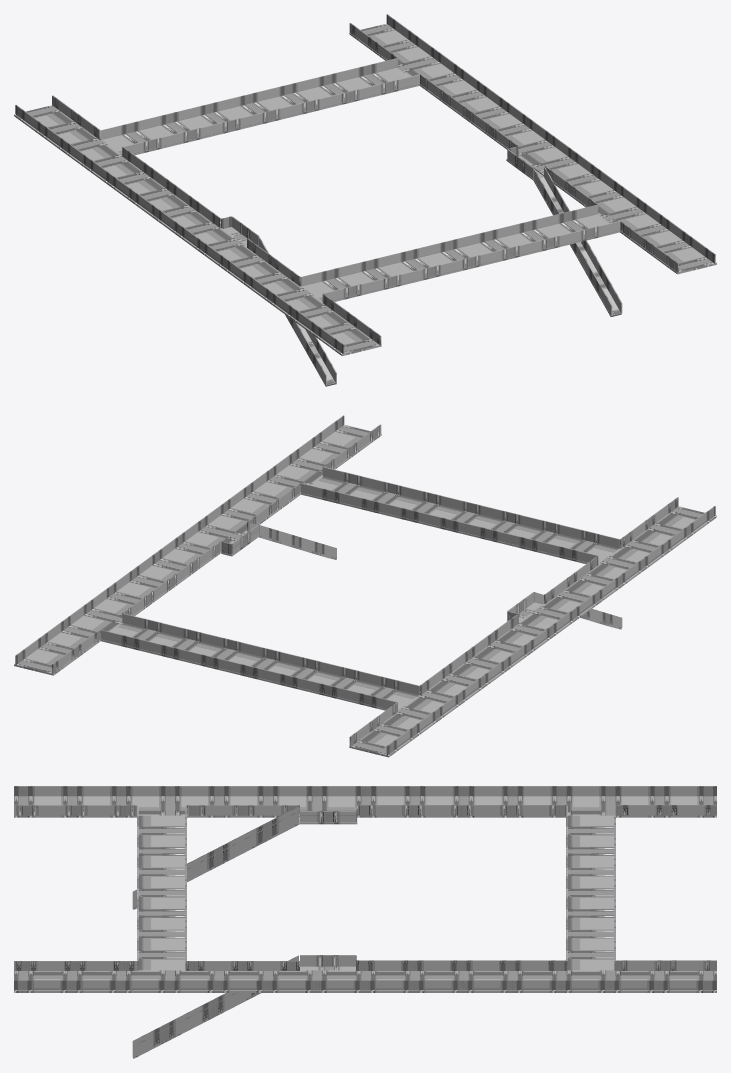
File: Hangar_Platform.fbx
3 views of the same model, one above another, from view 1: azimuth 30°, elevation 25°; view 2: azimuth 150°, elevation 25°; view 3: azimuth 270°, elevation 25° (orthographic). The views are drawn at different scales.
Visible parts, largest first — view 1: Hanger_PlatformB, Hanger_PlatformA, Hanger_Platform_BridgeB, Hanger_Platform_BridgeA, Hanger_Platform_StairsA, Hanger_Platform_StairsB; view 2: Hanger_PlatformB, Hanger_PlatformA, Hanger_Platform_BridgeB, Hanger_Platform_BridgeA, Hanger_Platform_StairsA, Hanger_Platform_StairsB; view 3: Hanger_PlatformB, Hanger_PlatformA, Hanger_Platform_BridgeB, Hanger_Platform_BridgeA, Hanger_Platform_StairsB, Hanger_Platform_StairsA.
Part boxes in pixels (bbox=[...]): Hanger_PlatformB: bbox=[14, 95, 381, 356]; Hanger_PlatformA: bbox=[349, 14, 716, 274]; Hanger_Platform_BridgeB: bbox=[300, 204, 620, 301]; Hanger_Platform_BridgeA: bbox=[100, 58, 419, 155]; Hanger_Platform_StairsA: bbox=[506, 146, 622, 316]; Hanger_Platform_StairsB: bbox=[221, 216, 336, 386]; Hanger_PlatformB: bbox=[349, 497, 716, 757]; Hanger_PlatformA: bbox=[14, 415, 381, 675]; Hanger_Platform_BridgeB: bbox=[300, 467, 620, 563]; Hanger_Platform_BridgeA: bbox=[100, 613, 419, 710]; Hanger_Platform_StairsA: bbox=[221, 522, 336, 559]; Hanger_Platform_StairsB: bbox=[506, 592, 622, 629]; Hanger_PlatformB: bbox=[14, 786, 716, 817]; Hanger_PlatformA: bbox=[14, 960, 716, 992]; Hanger_Platform_BridgeB: bbox=[137, 805, 186, 970]; Hanger_Platform_BridgeA: bbox=[566, 805, 615, 970]; Hanger_Platform_StairsB: bbox=[132, 805, 357, 909]; Hanger_Platform_StairsA: bbox=[132, 955, 356, 1058].
Size of the model in its own units: 8035 by 1888 by 12179.
